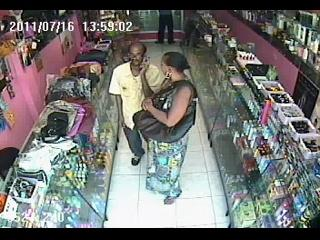Normal: (136, 51, 198, 206), (108, 42, 165, 167), (154, 10, 176, 44), (75, 50, 108, 65)
